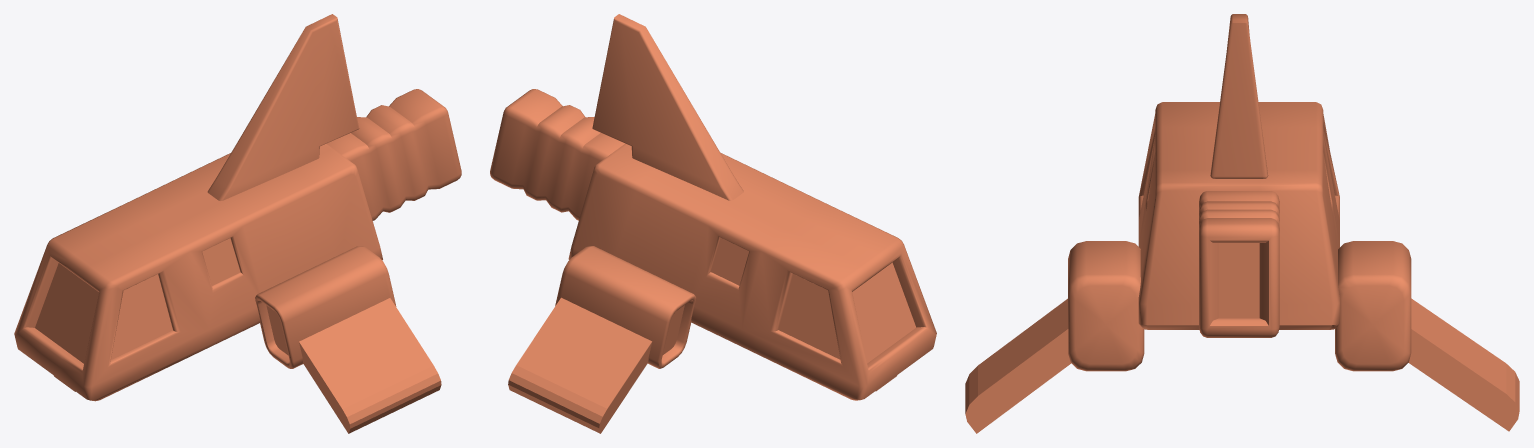
File: SpaceK.fbx
3 renders of one model, left to right at view 1: azimuth 30°, elevation 25°; view 2: azimuth 150°, elevation 25°; view 3: azimuth 270°, elevation 25°, orthographic. The views are drawn at different scales.
Parts seen in each view (by area): view 1: Cube.006; view 2: Cube.006; view 3: Cube.006.
Boxes of the visible parts, box(x1,y1,x2,y2) form: Cube.006: box(14, 14, 461, 433); Cube.006: box(490, 14, 936, 433); Cube.006: box(965, 14, 1519, 433).
Bounding box in the file's own units: 438 × 341 × 394.
